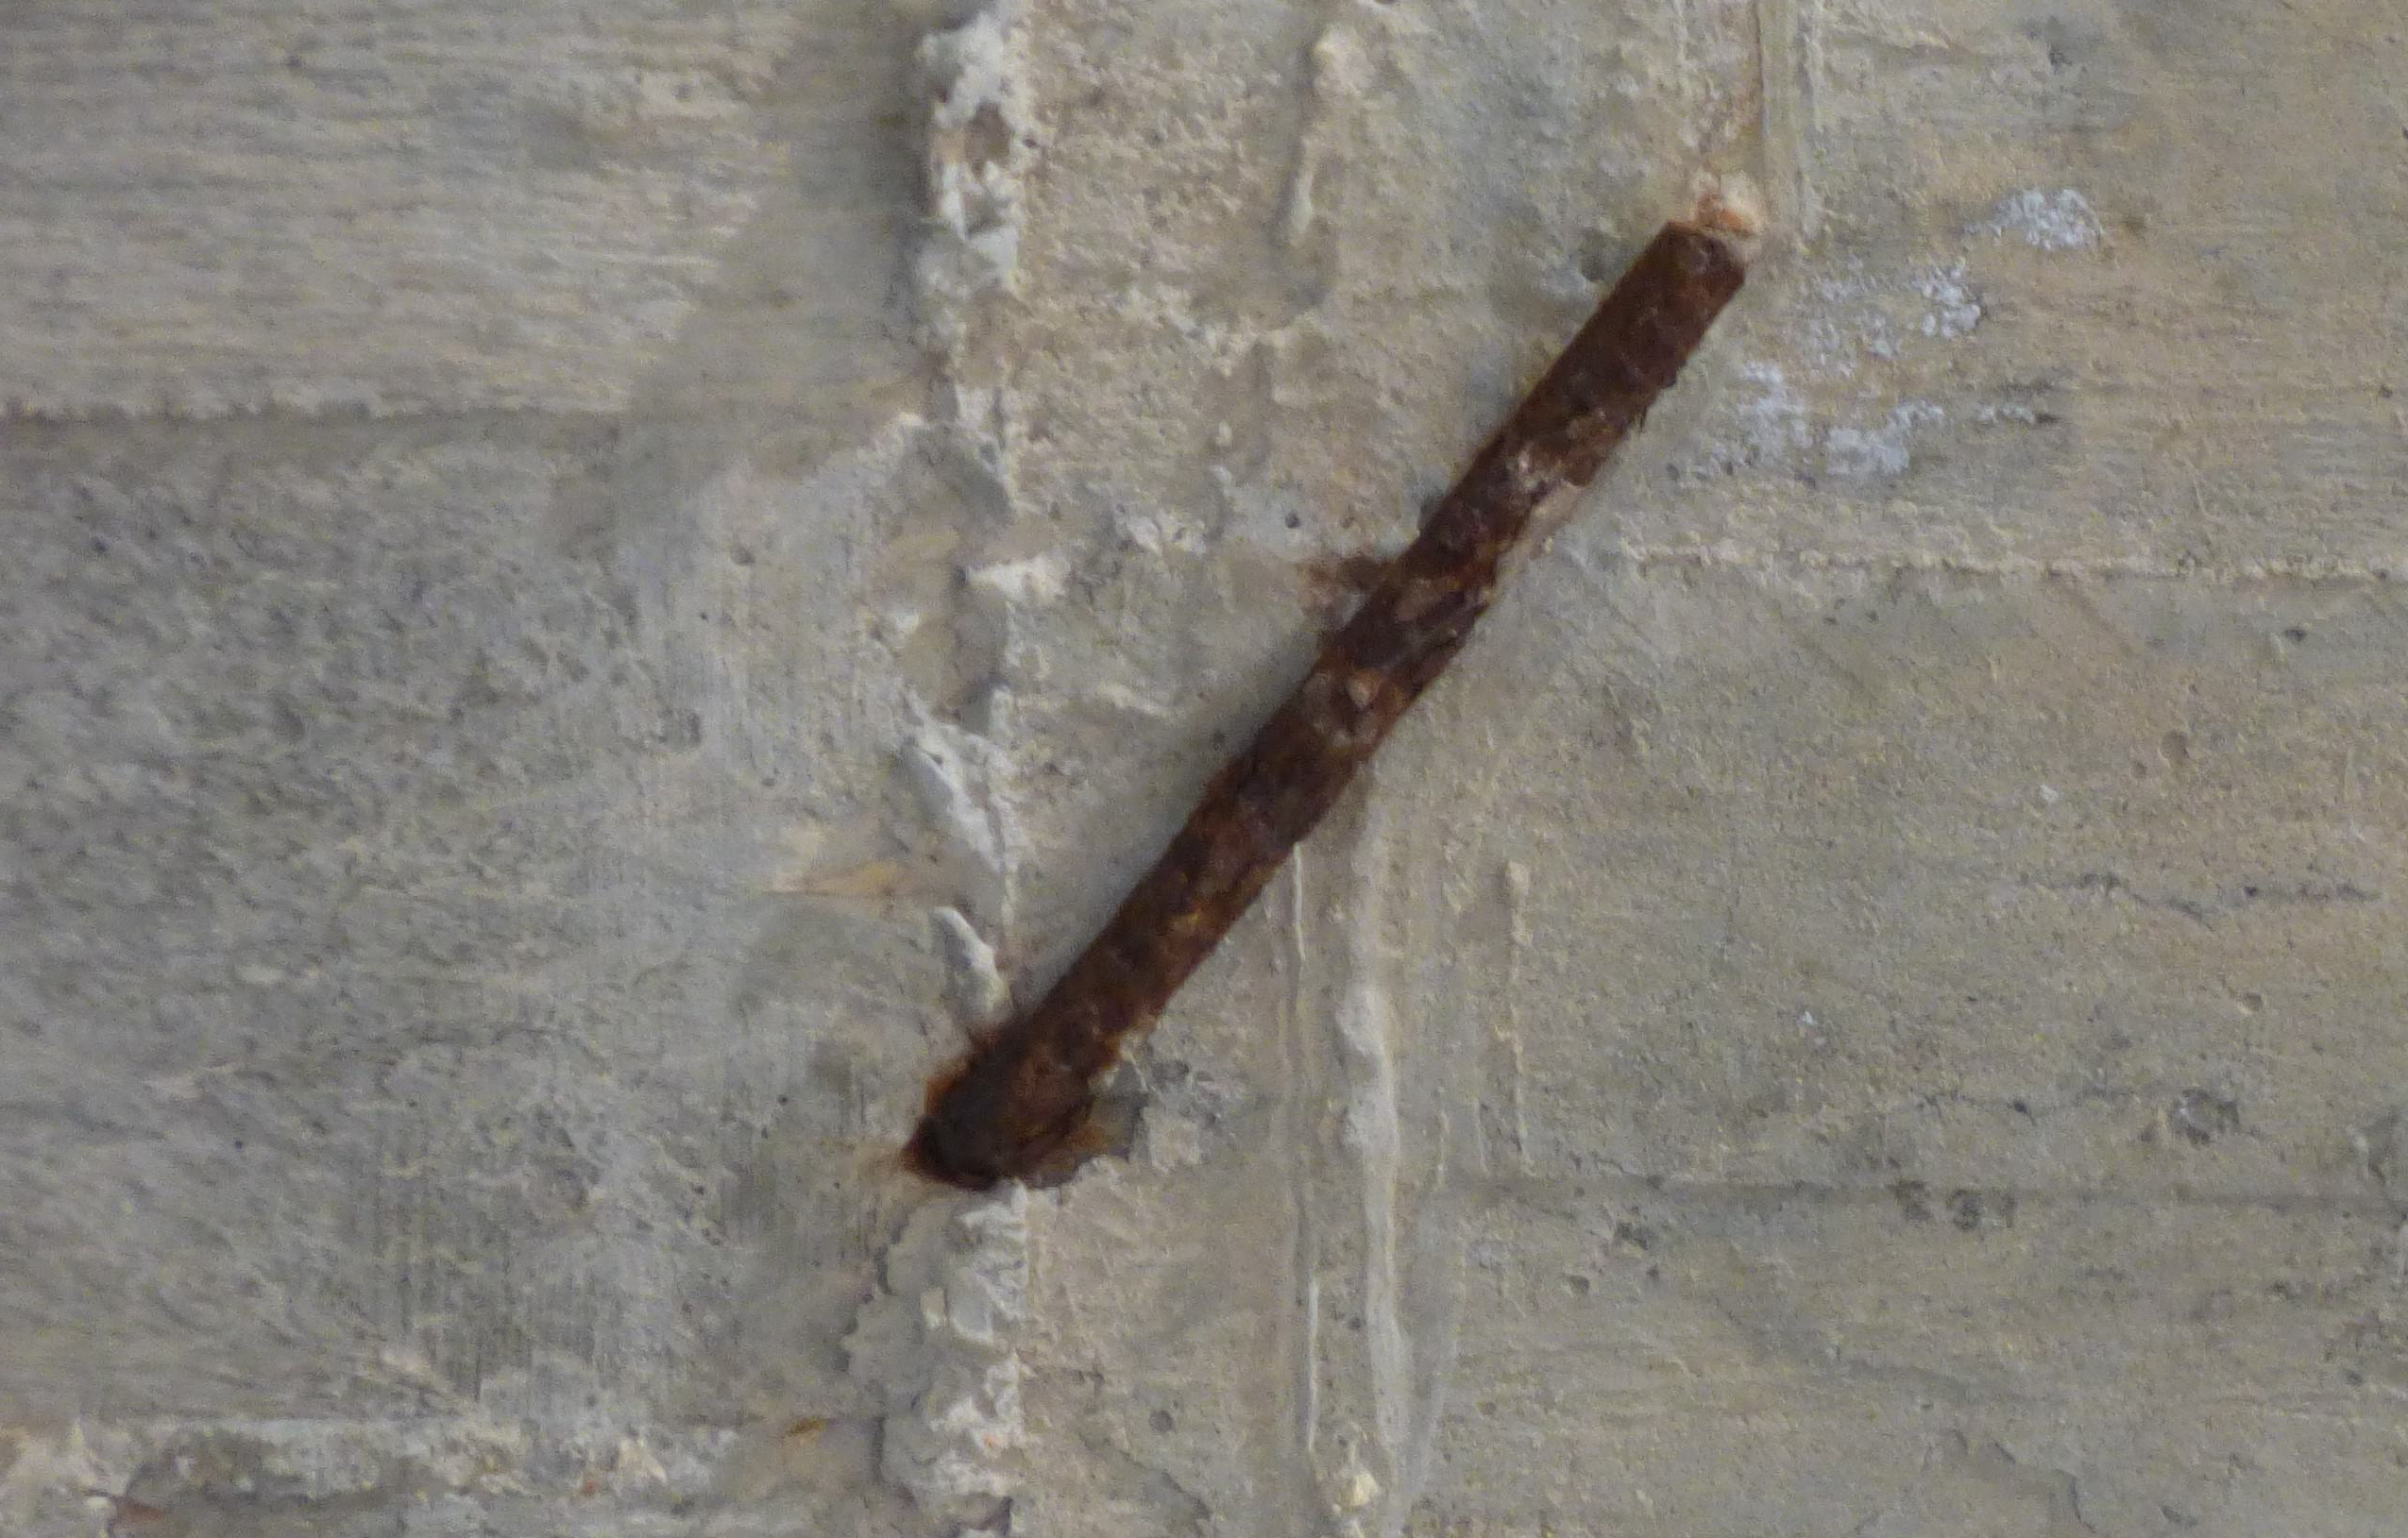Exposed reinforcement: (916, 218, 1753, 1192)
